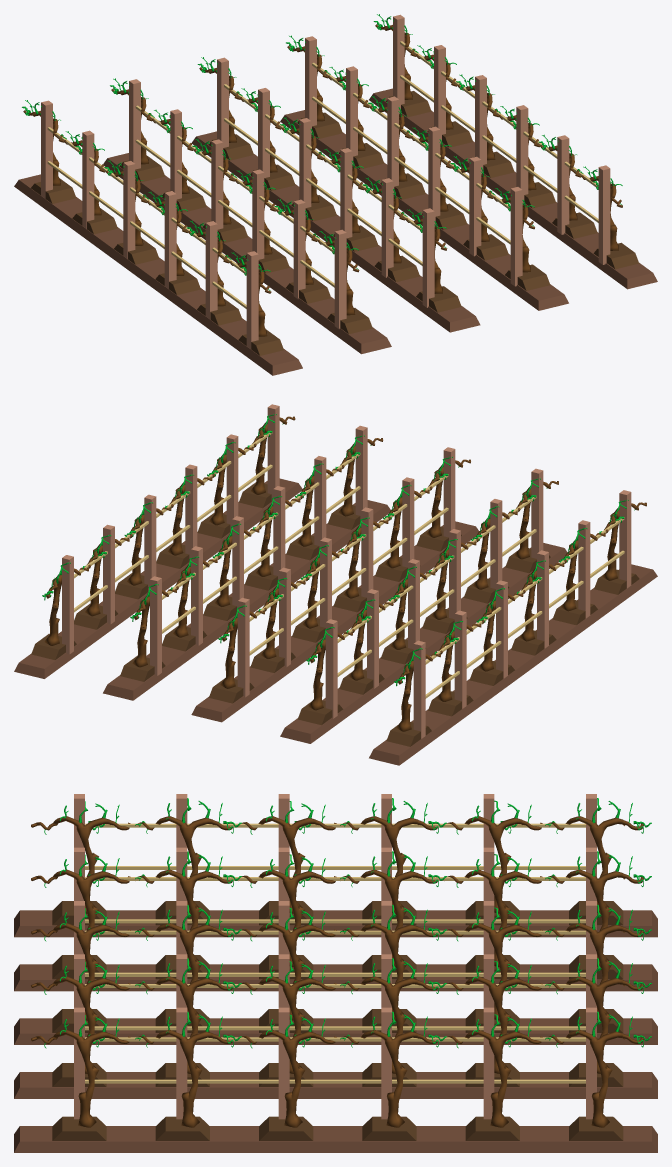
Rendered from Vineyard Spring.fbx.
3 views of the same model, one above another, from view 1: azimuth 30°, elevation 25°; view 2: azimuth 150°, elevation 25°; view 3: azimuth 270°, elevation 25° (orthographic). The views are drawn at different scales.
Visible parts, largest first — view 1: Trellis pole, Soil Furrow, Dirt mound, Cube, Trellis wire; view 2: Trellis pole, Cube, Soil Furrow, Dirt mound, Trellis wire; view 3: Soil Furrow, Cube, Dirt mound, Trellis pole, Trellis wire.
Boxes of the visible parts, <box> form: Trellis pole: <box>41,14,610,349</box>; Soil Furrow: <box>14,88,657,375</box>; Dirt mound: <box>31,91,639,355</box>; Cube: <box>22,14,622,336</box>; Trellis wire: <box>47,41,598,308</box>; Trellis pole: <box>62,404,631,738</box>; Cube: <box>42,414,646,731</box>; Soil Furrow: <box>14,478,657,765</box>; Dirt mound: <box>31,482,639,746</box>; Trellis wire: <box>74,432,624,698</box>; Soil Furrow: <box>14,910,657,1152</box>; Cube: <box>31,798,651,1127</box>; Dirt mound: <box>52,901,623,1140</box>; Trellis pole: <box>74,794,596,1119</box>; Trellis wire: <box>85,823,585,1083</box>.
Bounding box in the file's own units: 302 × 75.95 × 351.
